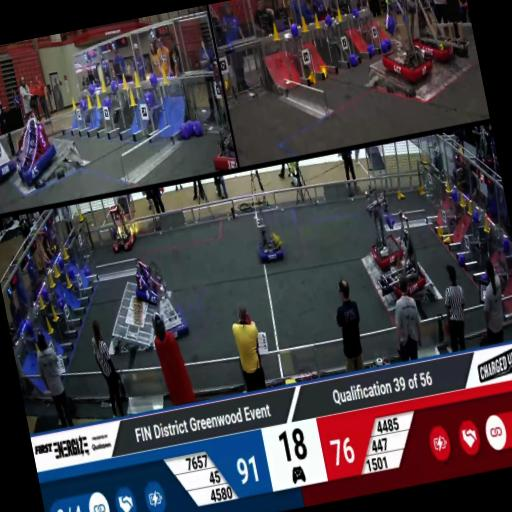robot: (364, 204, 428, 300), (367, 0, 435, 88), (194, 52, 238, 172), (401, 0, 471, 68), (4, 110, 62, 185), (362, 190, 416, 268), (144, 267, 192, 342), (248, 200, 290, 264), (128, 252, 168, 308), (104, 202, 138, 254), (0, 97, 19, 188)
